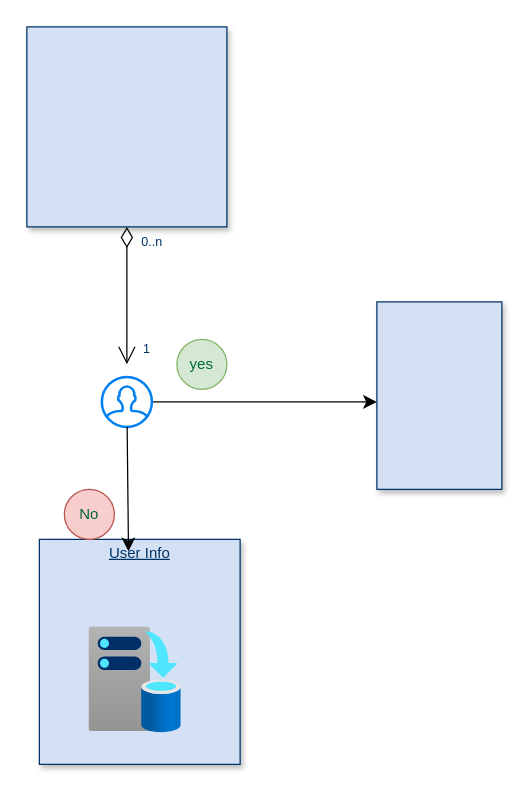
This 531x799 diagram has some shape labels left out. The centre of each missing label's shape, as x and y in pixels:
"Auth/Log in" belongs at (440,397).
"Auth/register" belongs at (127,128).
